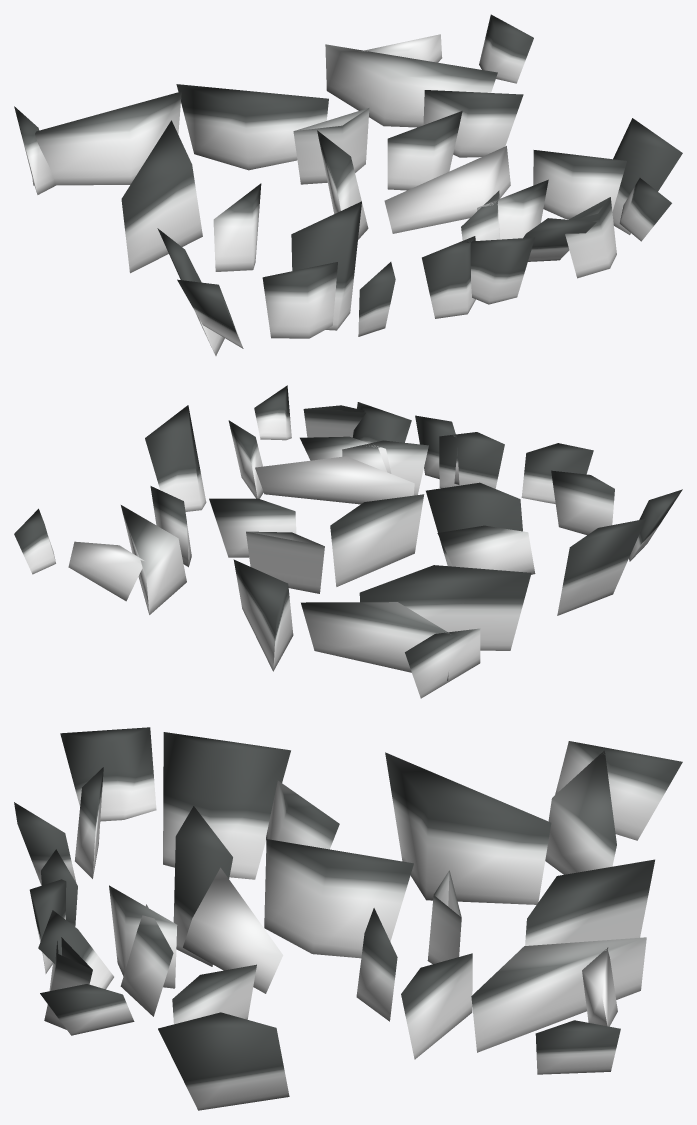
File: plant_2_Destructed.fbx
3 renders of one model, top to bottom at view 1: azimuth 30°, elevation 25°; view 2: azimuth 150°, elevation 25°; view 3: azimuth 270°, elevation 25°, orthographic. The views are drawn at different scales.
Parts seen in each view (by area): view 1: plant_2_Destructed; view 2: plant_2_Destructed; view 3: plant_2_Destructed.
Boxes of the visible parts, bbox=[...] form: plant_2_Destructed: bbox=[14, 14, 682, 355]; plant_2_Destructed: bbox=[14, 385, 682, 698]; plant_2_Destructed: bbox=[14, 727, 682, 1110].
Size of the model in its own units: 0.8566 by 0.1744 by 0.7928.
